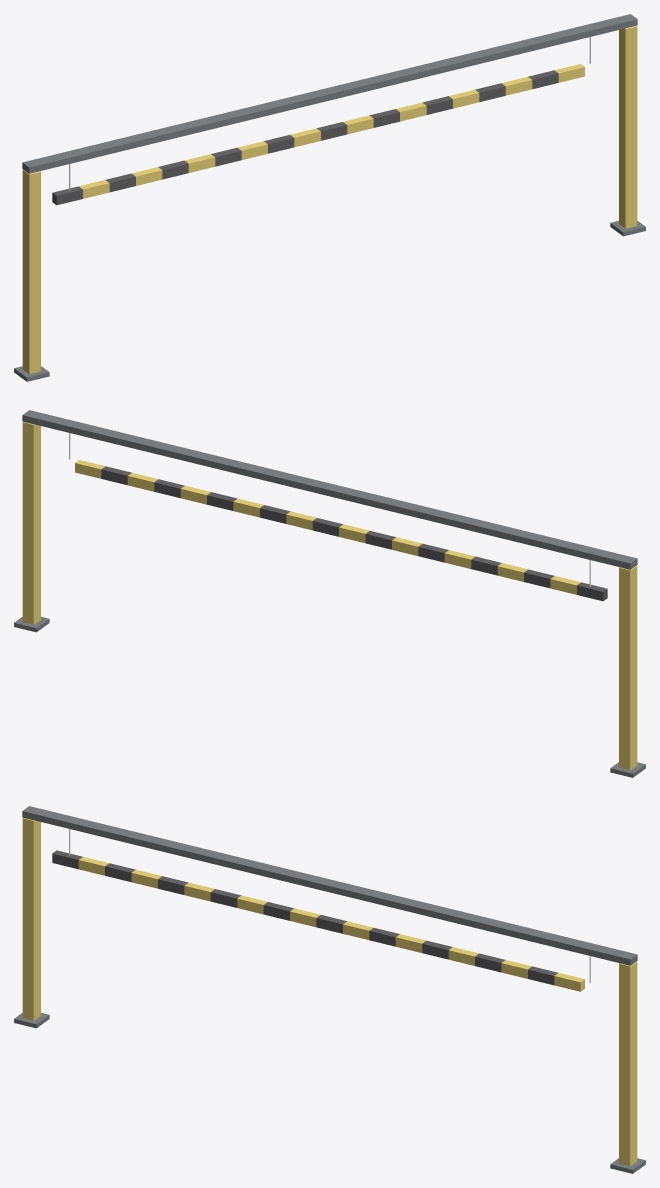
File: height_bar.glb
The picture shows the model from 3 angles, top to bottom: view 1: azimuth 30°, elevation 25°; view 2: azimuth 150°, elevation 25°; view 3: azimuth 330°, elevation 25°; orthographic projection.
Parts seen in each view (by area): view 1: height_bar_paint_y, height_bar_steel_d, height_bar_dark; view 2: height_bar_paint_y, height_bar_steel_d, height_bar_dark; view 3: height_bar_paint_y, height_bar_steel_d, height_bar_dark.
Boxes of the visible parts, x1,y1,x2,y2 form: height_bar_paint_y: (22,25,637,373); height_bar_steel_d: (14,14,645,381); height_bar_dark: (52,70,558,205); height_bar_paint_y: (22,421,637,769); height_bar_steel_d: (14,410,645,777); height_bar_dark: (101,466,607,601); height_bar_paint_y: (22,817,637,1165); height_bar_steel_d: (14,806,645,1173); height_bar_dark: (52,850,558,985).
Bounding box in the file's own units: 8.2 × 2.68 × 0.3.
